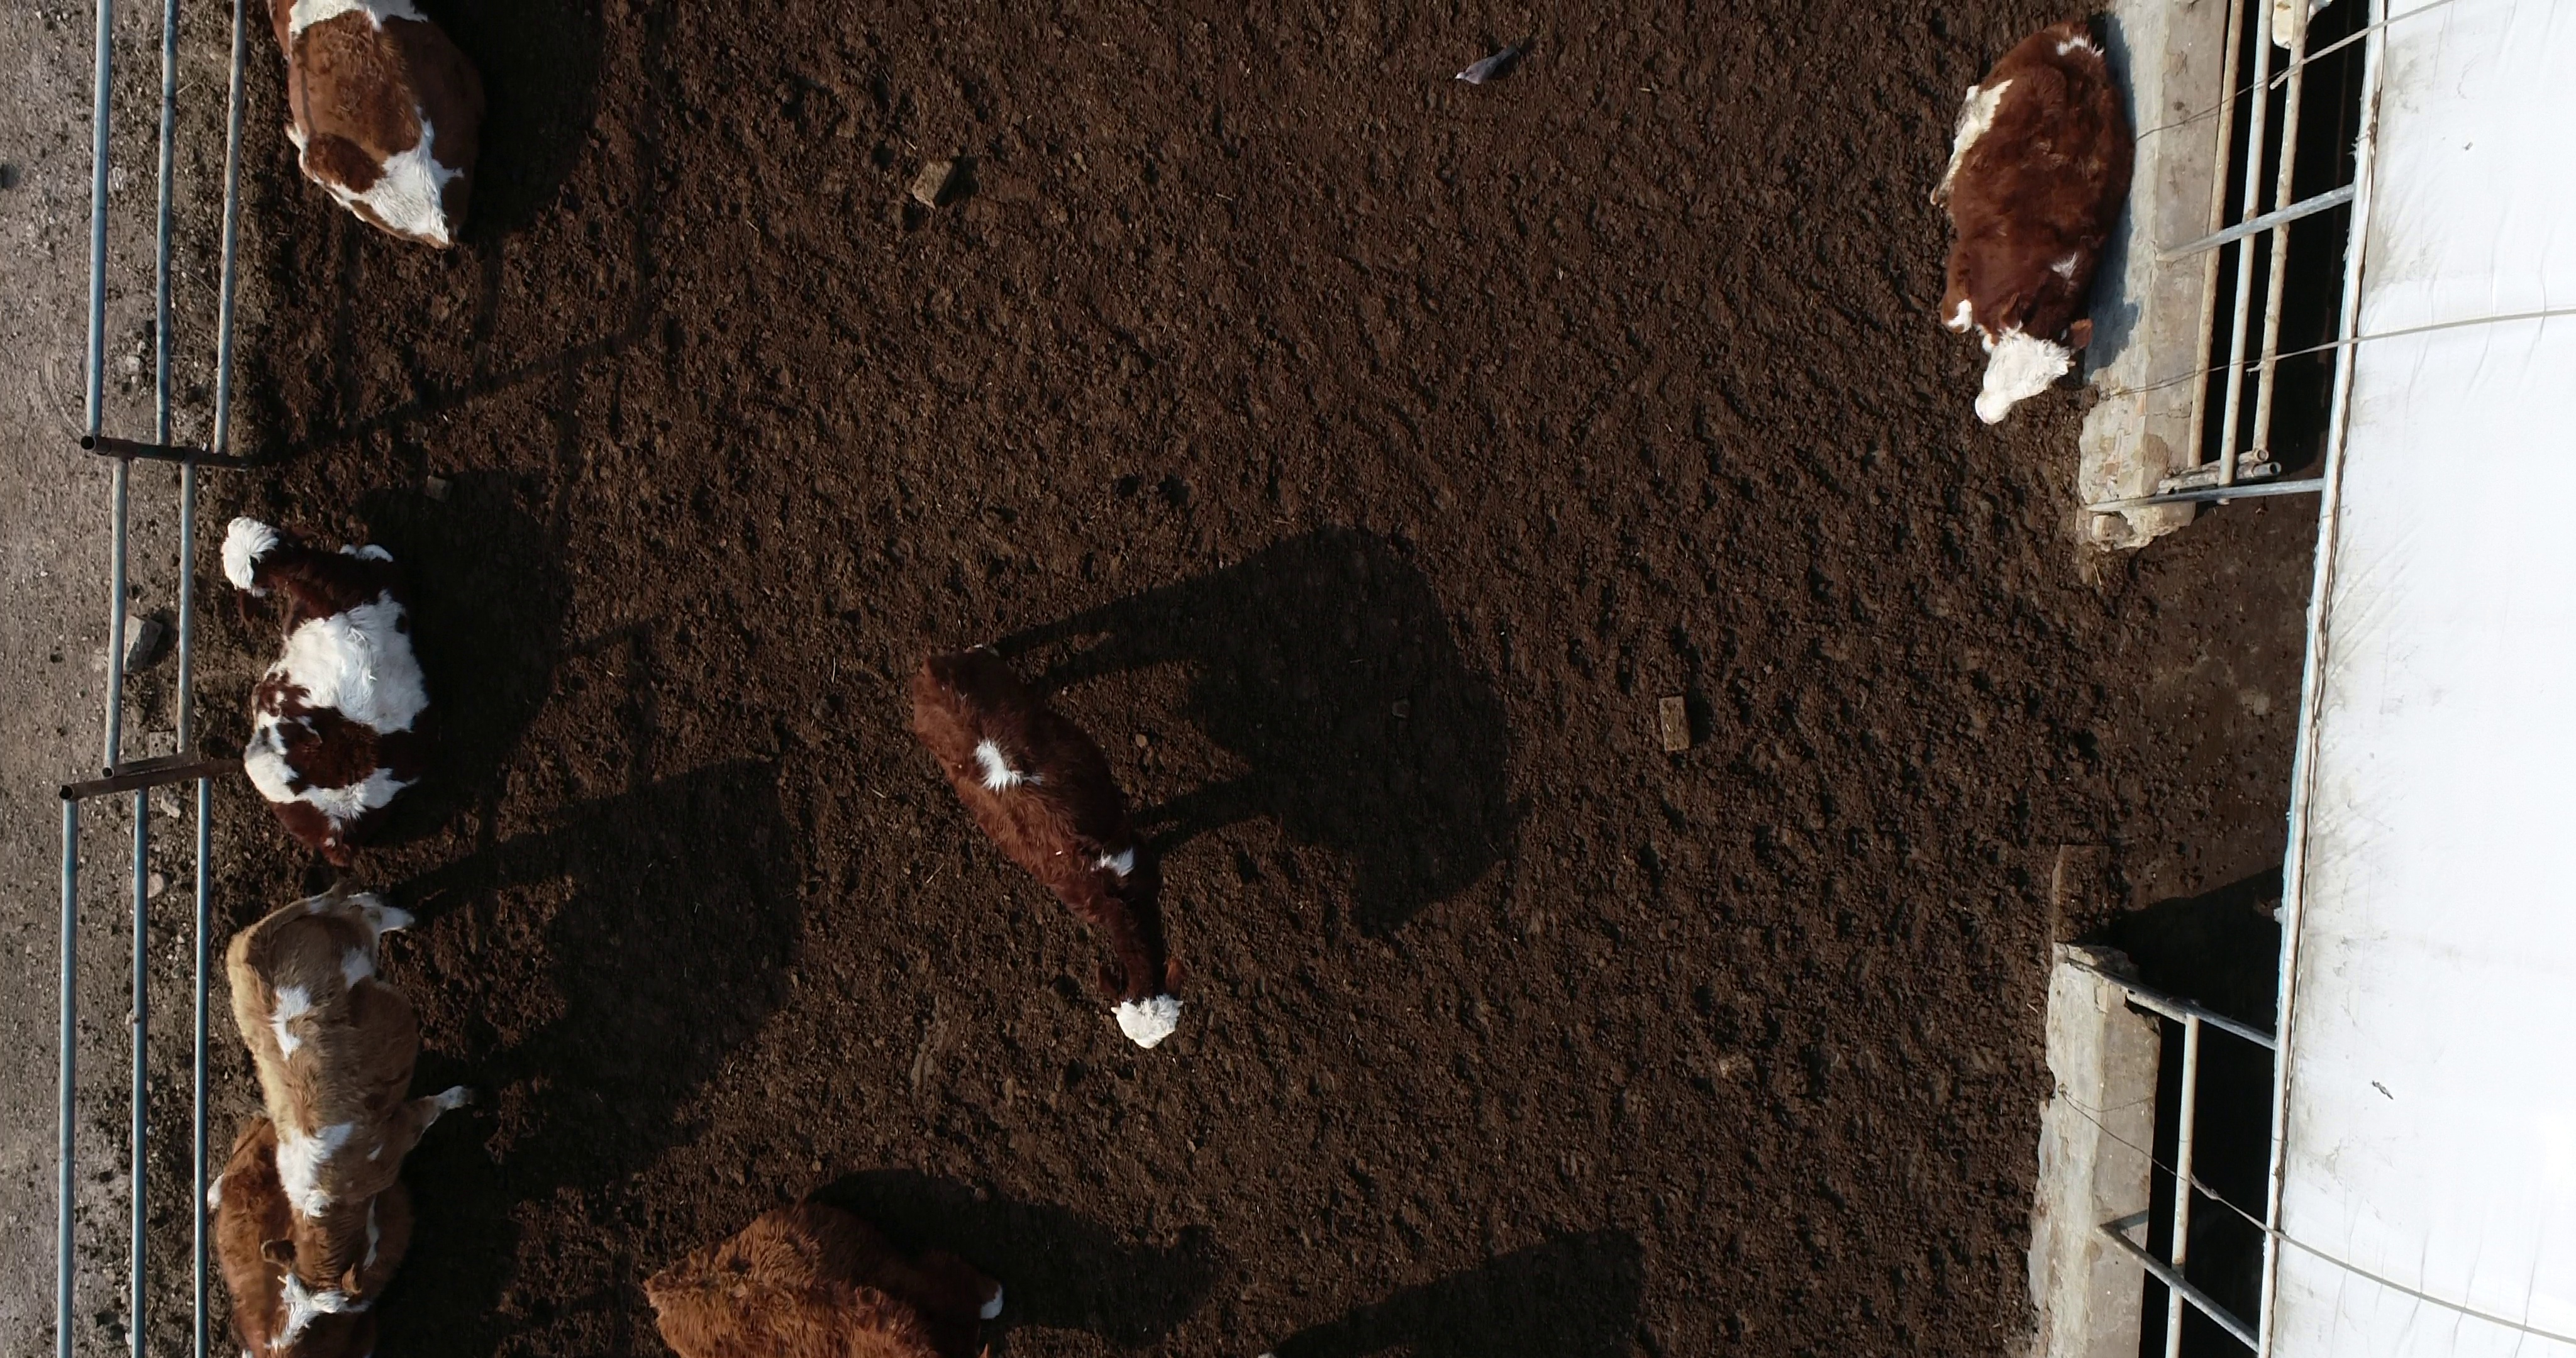cattle: (889, 641, 1205, 1055), (220, 886, 492, 1317), (1922, 19, 2136, 433), (210, 504, 443, 876)
